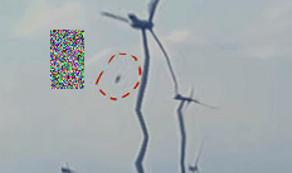faulty: (110, 8, 165, 112)
